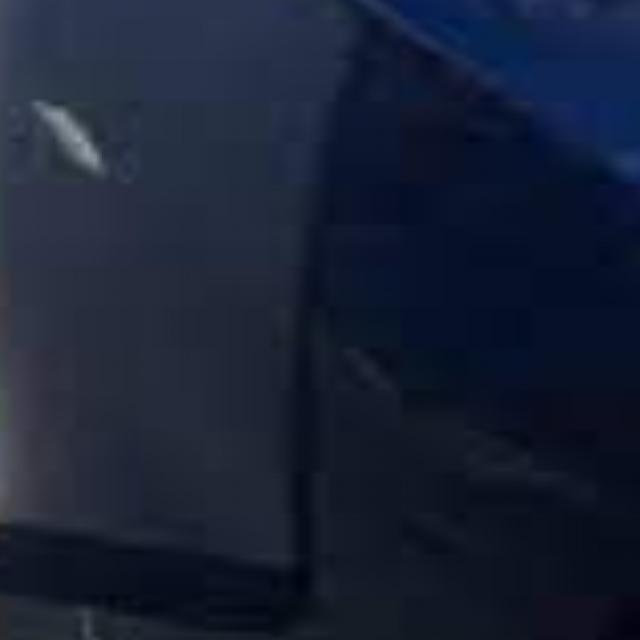dents: (15, 77, 166, 199)
